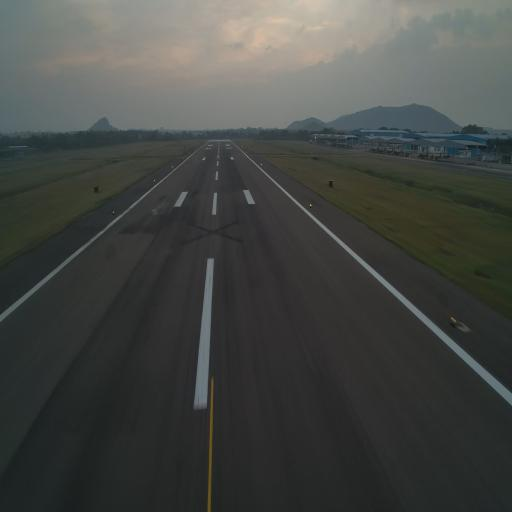on: (448, 312, 458, 330), (308, 201, 314, 210), (112, 208, 116, 215)
